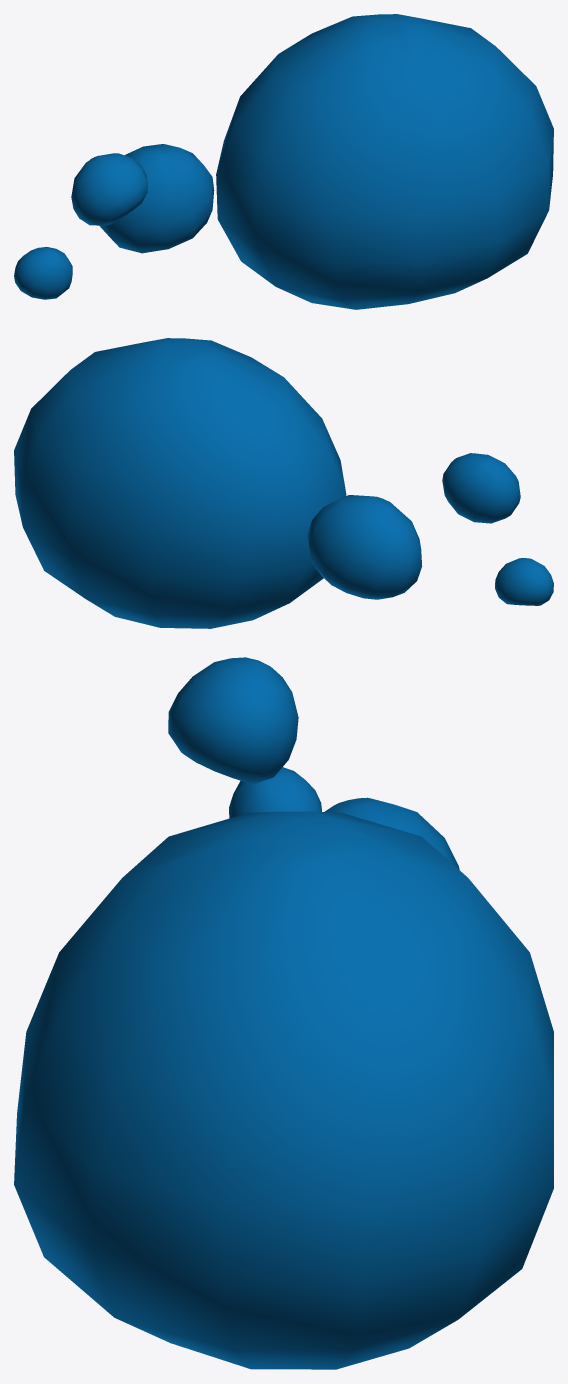
Rendered from collectible.fbx.
3 renders of one model, top to bottom at view 1: azimuth 30°, elevation 25°; view 2: azimuth 150°, elevation 25°; view 3: azimuth 270°, elevation 25°, orthographic. The views are drawn at different scales.
Visible parts, largest first — view 1: Circle.001, Circle.002, Circle.003, Circle.004; view 2: Circle.001, Circle.002, Circle.003, Circle.004; view 3: Circle.001, Circle.003, Circle.004, Circle.002.
Part boxes in pixels (x1,y1,x2,y2): Circle.001: [216, 14, 553, 309]; Circle.002: [99, 144, 214, 253]; Circle.003: [71, 153, 147, 225]; Circle.004: [14, 247, 72, 299]; Circle.001: [14, 338, 346, 628]; Circle.002: [307, 495, 422, 599]; Circle.003: [442, 453, 520, 523]; Circle.004: [495, 558, 553, 605]; Circle.001: [14, 811, 553, 1369]; Circle.003: [168, 657, 298, 783]; Circle.004: [229, 767, 321, 818]; Circle.002: [324, 797, 459, 869].
Size of the model in its own units: 243 by 110 by 118.
